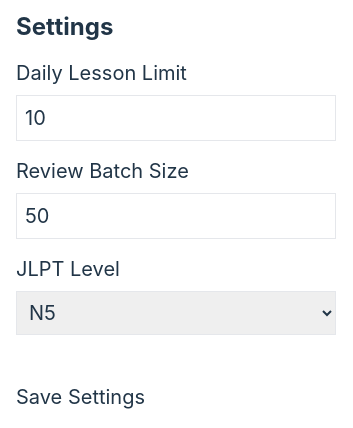
Test case: SettingsPage › disables button and shows saving text while mutation is pending
Check: the number field labelled "Daily Lesson Limit" is shown, box [16, 95, 336, 141]
Click the button "Save Settings" at {"x": 80, "y": 397}, box [16, 383, 145, 411]
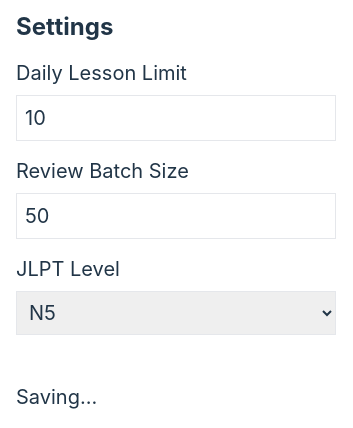
Check: the button "Saving..." is disabled, box [16, 383, 97, 411]
